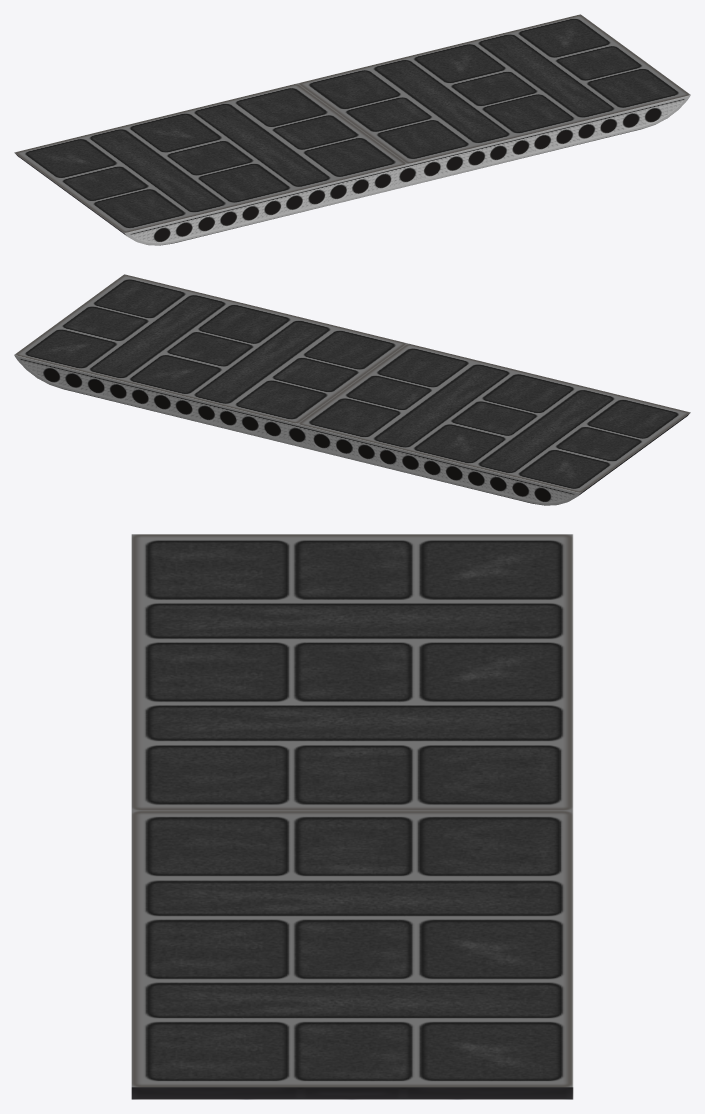
The model's file is Flatbed1uWide.FBX.
3 renders of one model, top to bottom at view 1: azimuth 30°, elevation 25°; view 2: azimuth 150°, elevation 25°; view 3: azimuth 270°, elevation 25°, orthographic. The views are drawn at different scales.
Visible parts, largest first — view 1: Flatbed001, Flatbed002; view 2: Flatbed001, Flatbed002; view 3: Flatbed002, Flatbed001.
Boxes of the visible parts, box(x1,y1,x2,y2) form: Flatbed001: box(14, 83, 407, 245); Flatbed002: box(297, 14, 690, 186); Flatbed001: box(297, 343, 690, 505); Flatbed002: box(14, 274, 407, 446); Flatbed002: box(131, 810, 573, 1099); Flatbed001: box(131, 534, 573, 810).
Size of what is drawn, in the model's own units: 2.5 by 0.094 by 0.8446.
